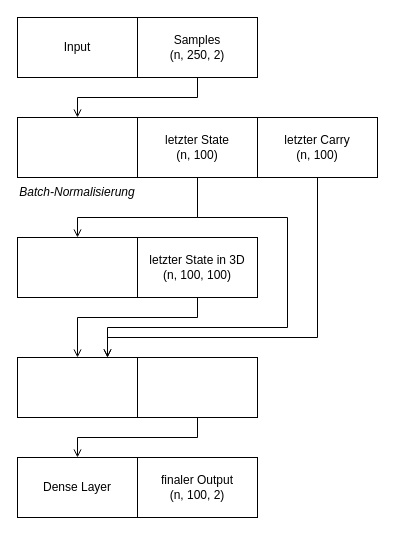
This 395x535 diagram has some shape labels left out. Here are the shapes that lost their labels. From the top down, the centre of each, then its label:
[77,147]: Enocder
[77,267]: Wiederholung des Vektors
[77,387]: Decoder
[197,387]: Sequenz (n, 100, 100)
